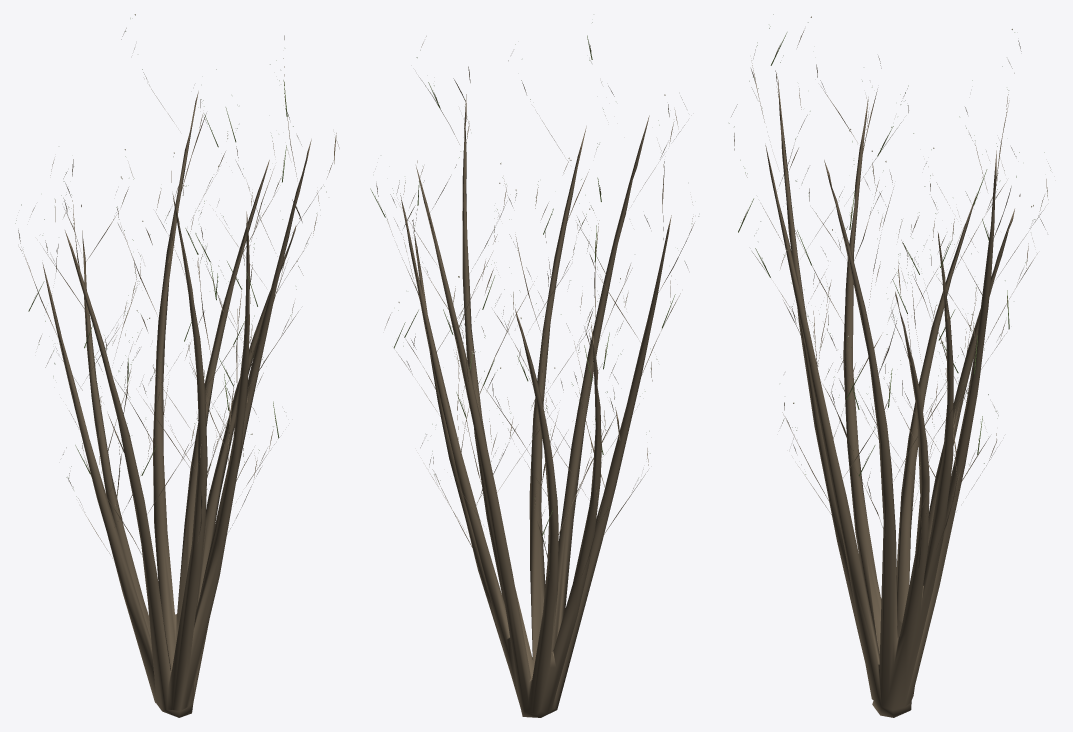
The model's file is Bruyere_1_Niveau1.fbx.
The picture shows the model from 3 angles, left to right: view 1: azimuth 30°, elevation 25°; view 2: azimuth 150°, elevation 25°; view 3: azimuth 270°, elevation 25°; orthographic projection. The views are drawn at different scales.
Visible parts, largest first — view 1: Bruyere_1_Niveau1; view 2: Bruyere_1_Niveau1; view 3: Bruyere_1_Niveau1.
Part boxes in pixels (box(x1,y1,x2,y2)): Bruyere_1_Niveau1: box(15, 14, 339, 717); Bruyere_1_Niveau1: box(370, 22, 698, 717); Bruyere_1_Niveau1: box(729, 14, 1050, 717).
Bounding box in the file's own units: 135 × 279 × 120.
